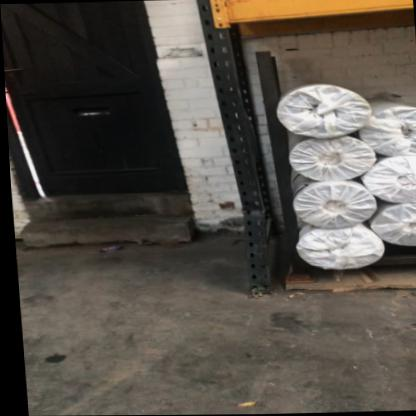vertical_damage: (223, 177, 272, 235)
